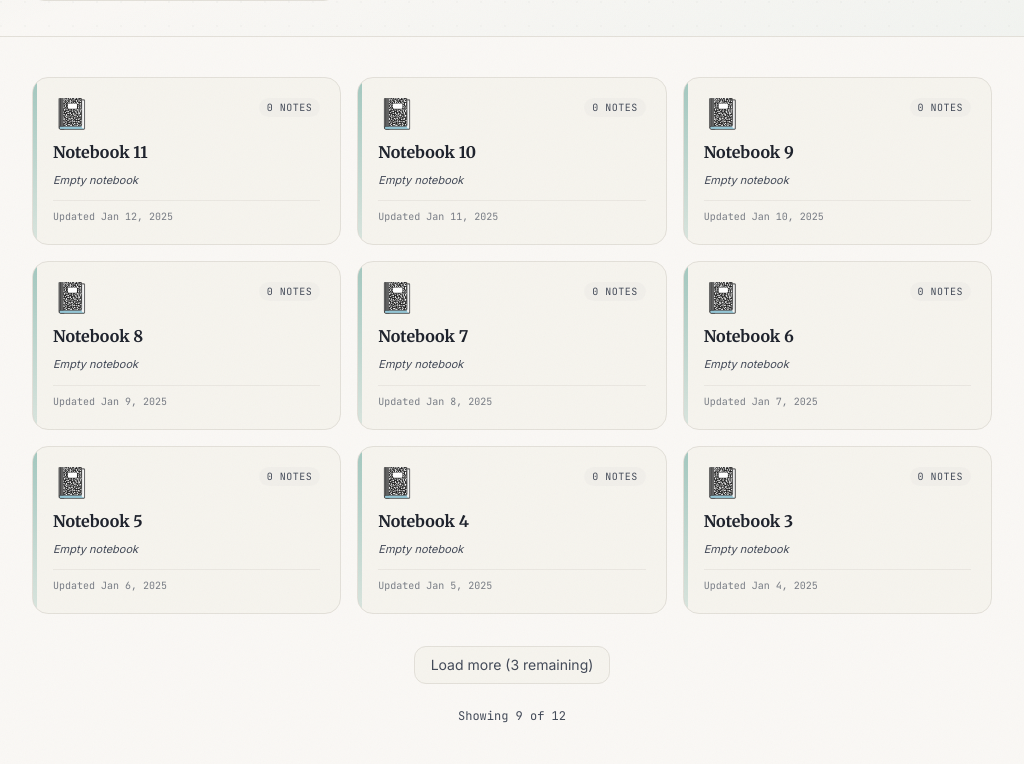
Test: HomeView pagination error + retry › Load more button exists when there are more pages and is keyboard activatable
(page scrolled)
Click the button "Load more (3 remaining)" at (512, 665), box top-left (414, 646), bottom-right (610, 684)
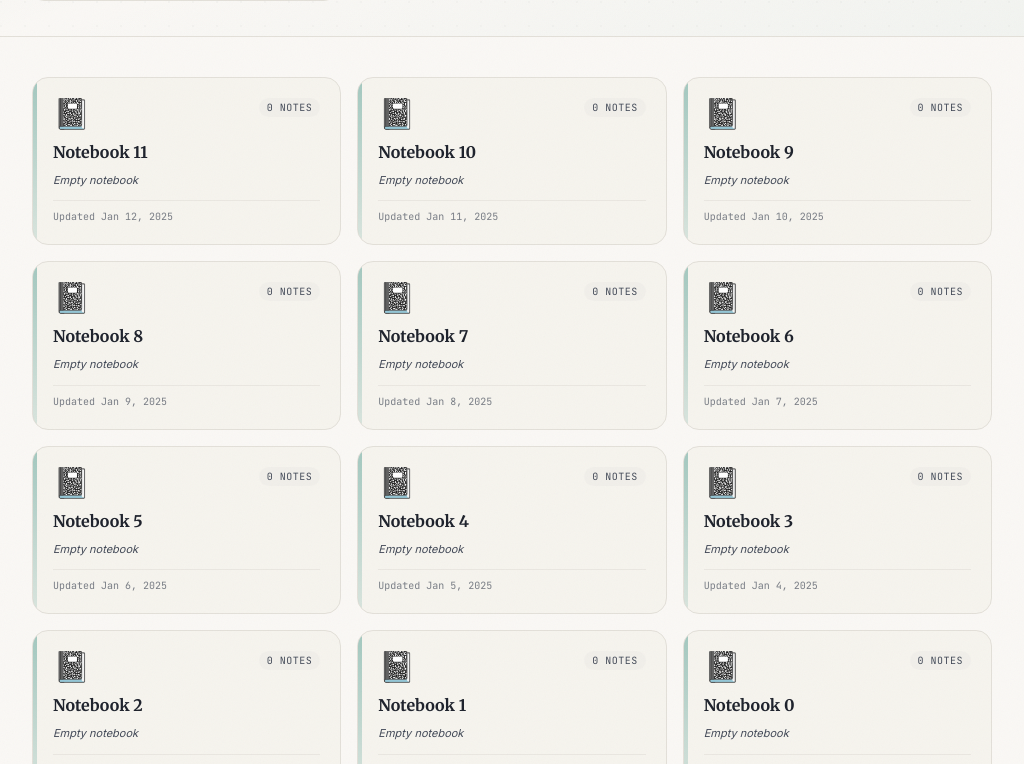
Result: the number of cells is 12
